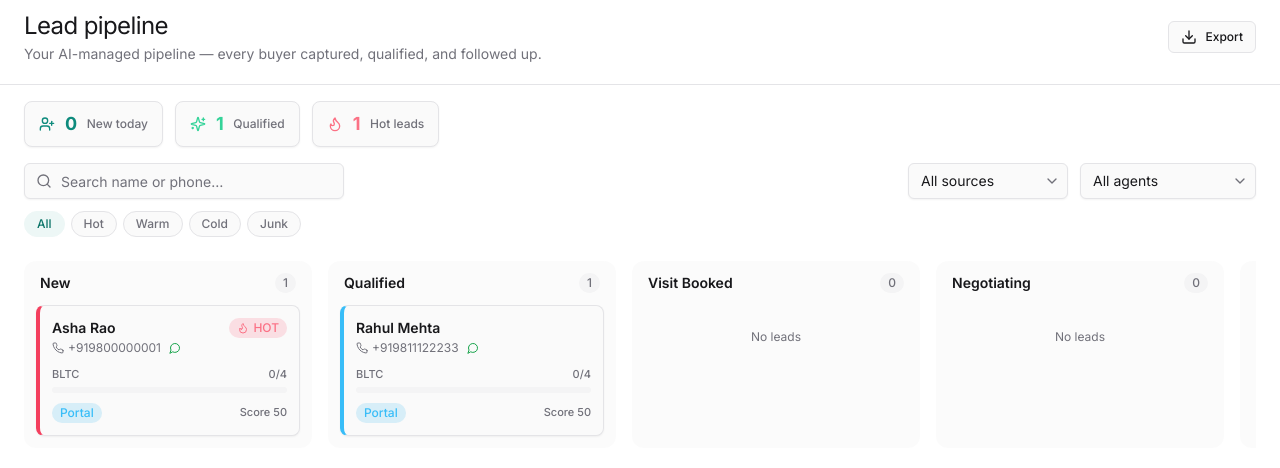
Test: LeadsPage filtering › shows an empty state when no leads match
Type "nobody" into the search field named "Search leads" at (184, 181), box [24,163,344,199]
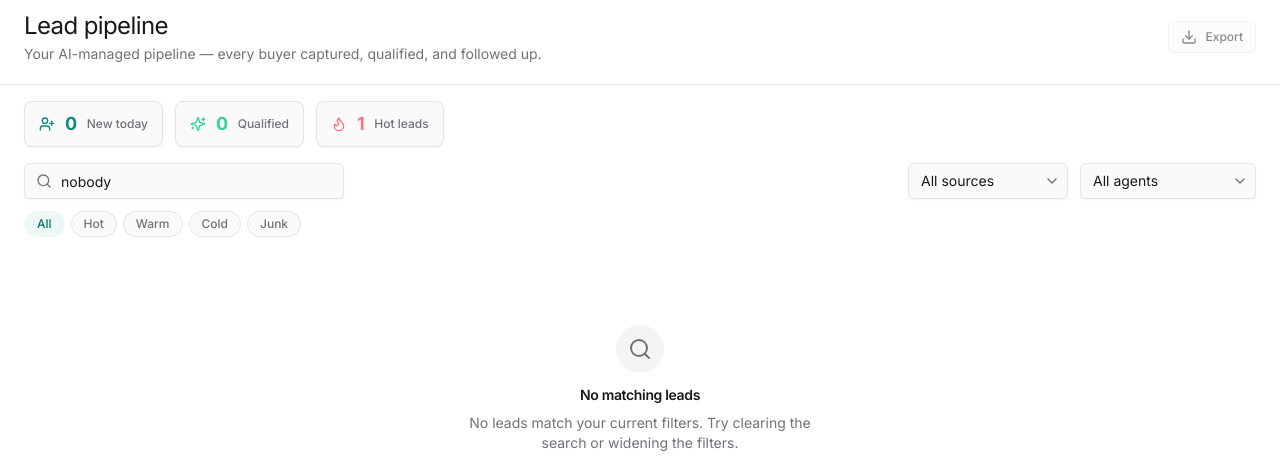
Expected: the heading "No matching leads" is shown, [580,385,700,405]
